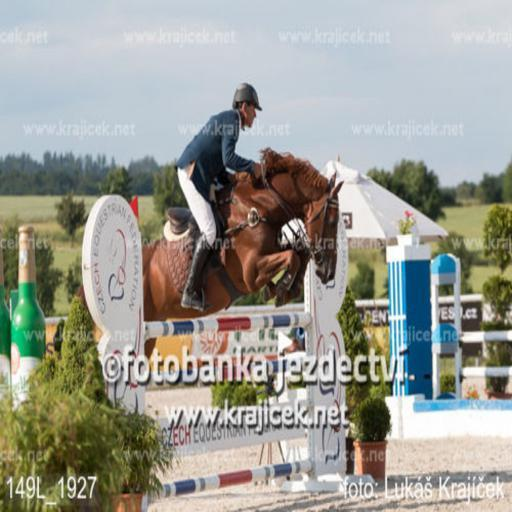horse: (74, 148, 346, 364)
